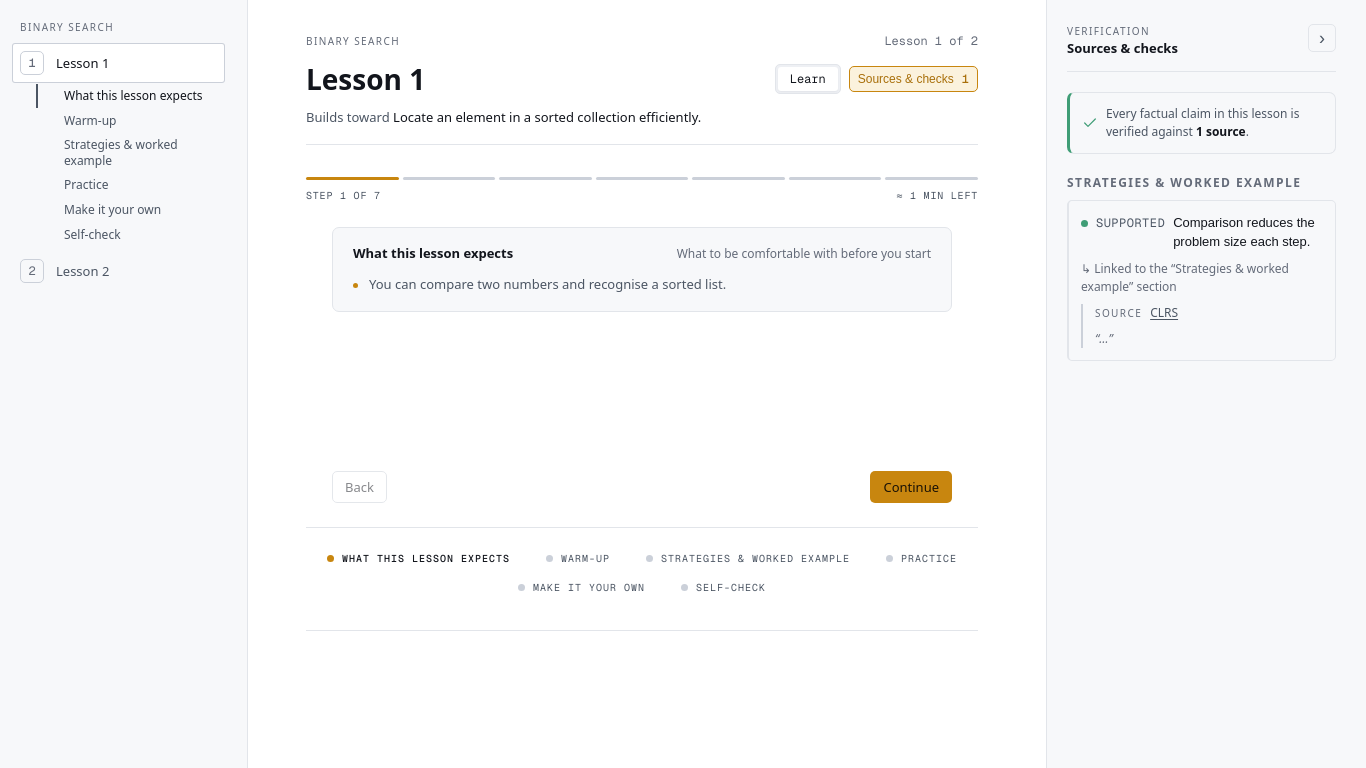
Test case: CourseReader — Learn mode › returns to step one when the focused lesson changes
Click the button "Continue": (911, 486) [870,470,952,502]
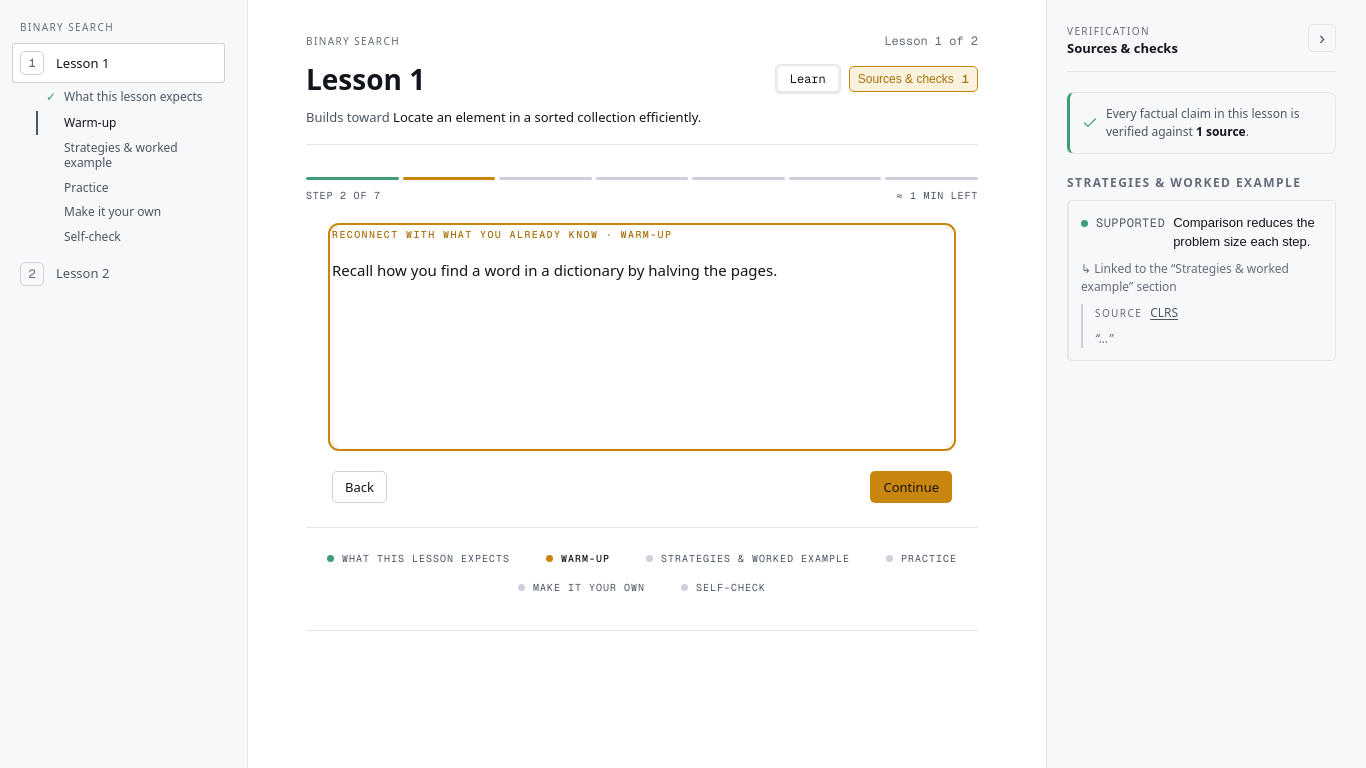
Expected: the text "Step 2 of 7" is shown, [306,188,381,202]
// Act — jump to lesson 2 via the course outline.
Click the button "2 Lesson 2": (118, 274) [12,254,225,294]
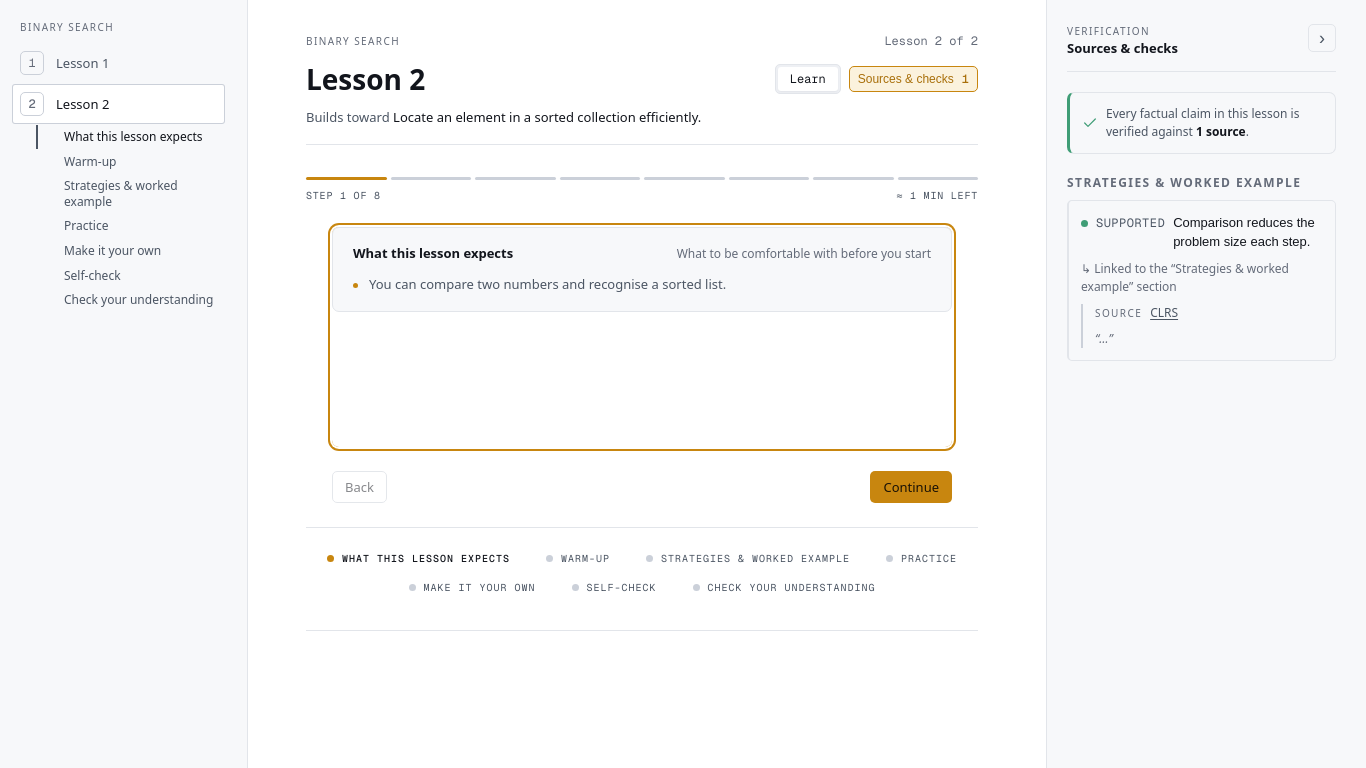
Expected: the text "Step 1 of 8" is shown, [306,188,381,202]
